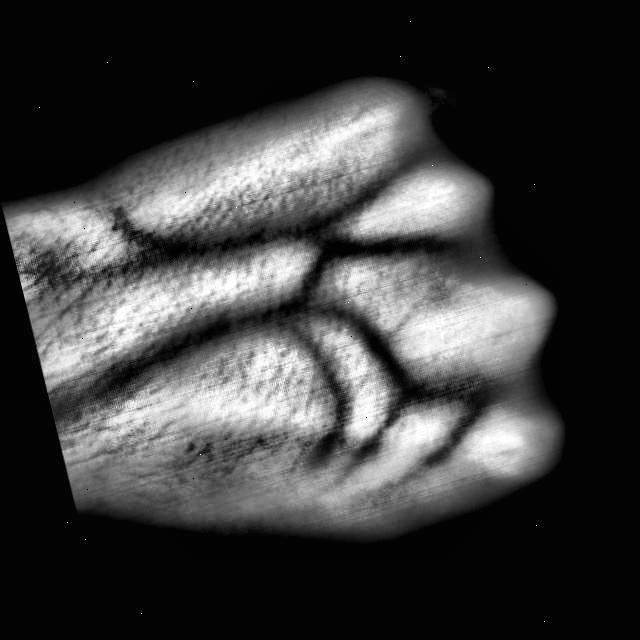Vein: (64, 281, 307, 415)
